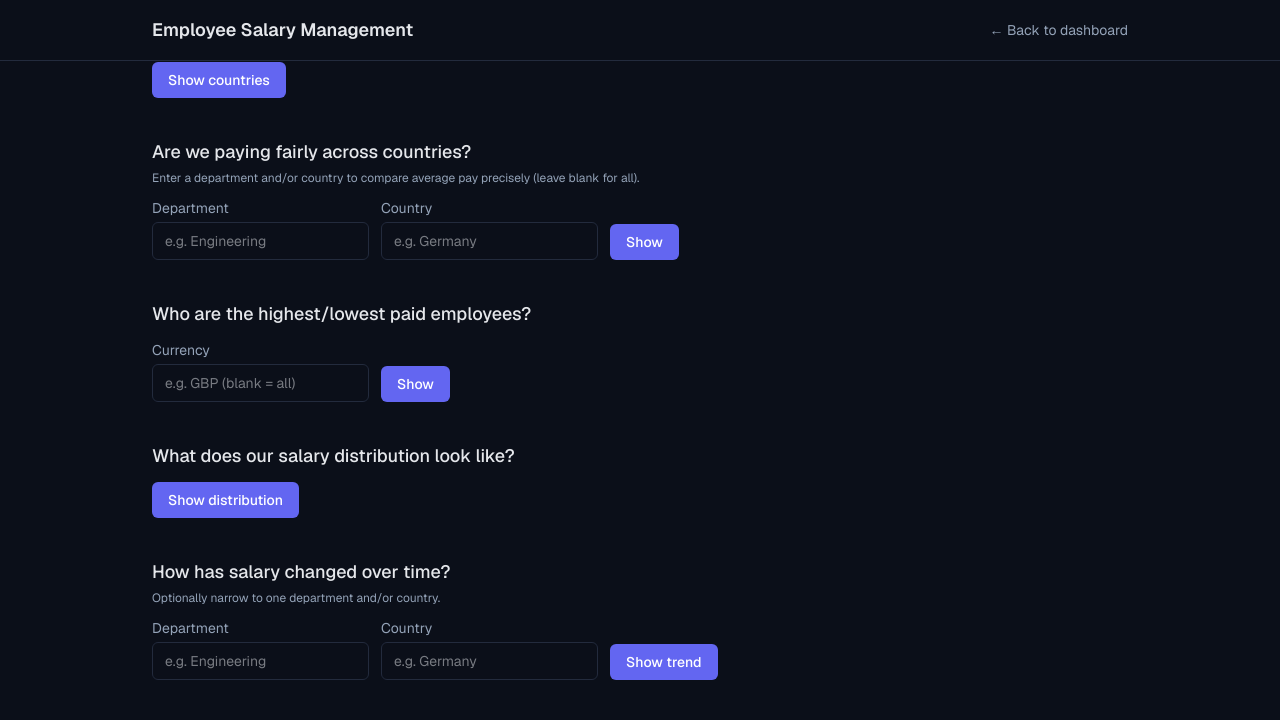
Test: ReportsPage › fetches the pay-over-time trend when requested
(page scrolled)
Click the button "Show trend".
click(664, 662)  # box [610,644,718,680]
(page scrolled)
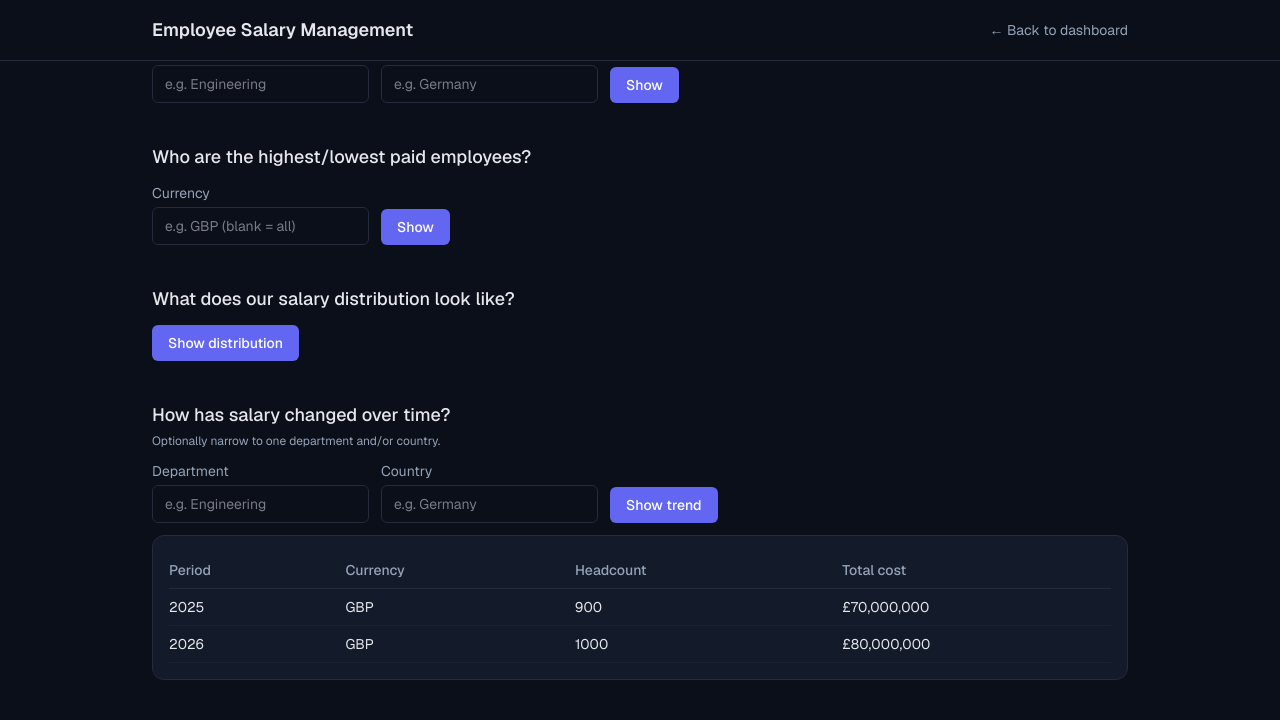
Result: the text "2025" is shown at [169,588,346,626]
Result: the text "2026" is shown at [169,626,346,662]
